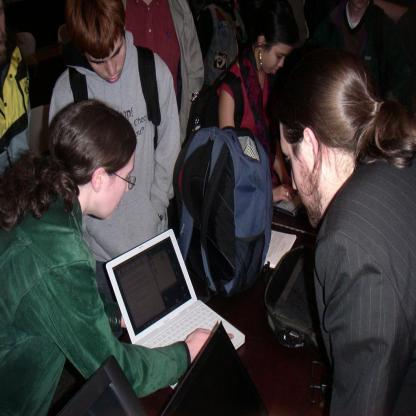board: (107, 226, 244, 388), (274, 191, 305, 216)
